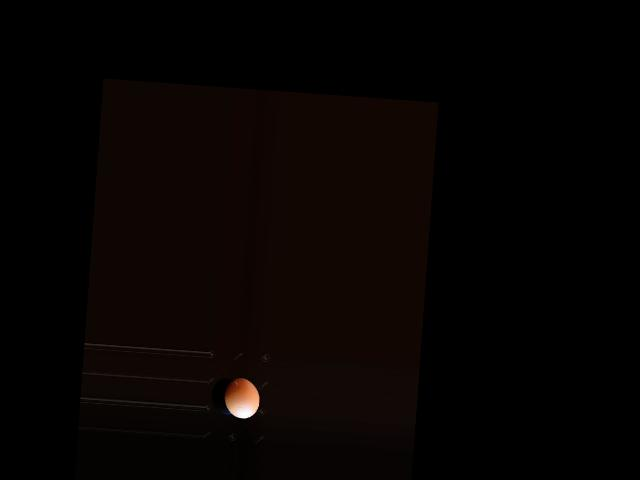egg: (222, 376, 260, 419)
